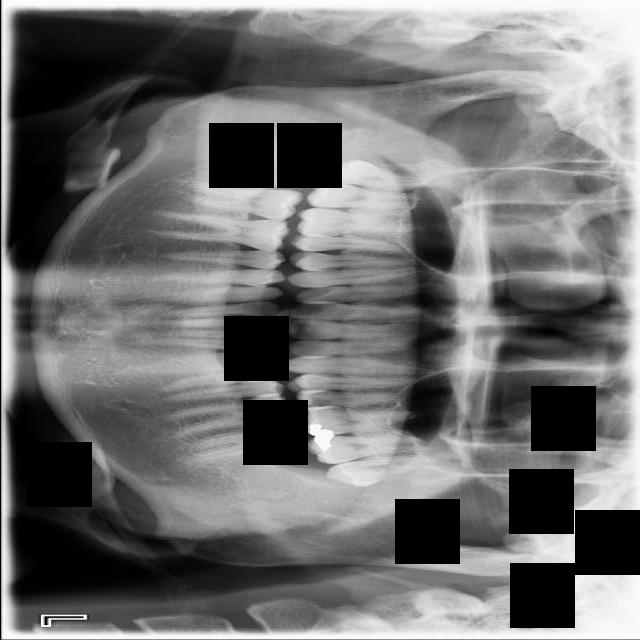3M ESPE Implant: (320, 157, 446, 196)
52: (306, 433, 360, 465), (300, 405, 351, 437), (305, 396, 331, 410)
73: (72, 563, 84, 570)
BioHorizons Implant: (305, 435, 438, 465)
BioLife Implant: (323, 452, 438, 491)
Blue Sky Bio Implant: (183, 421, 306, 465)
Caries: (306, 181, 431, 212)
Implant: (186, 182, 303, 223)
